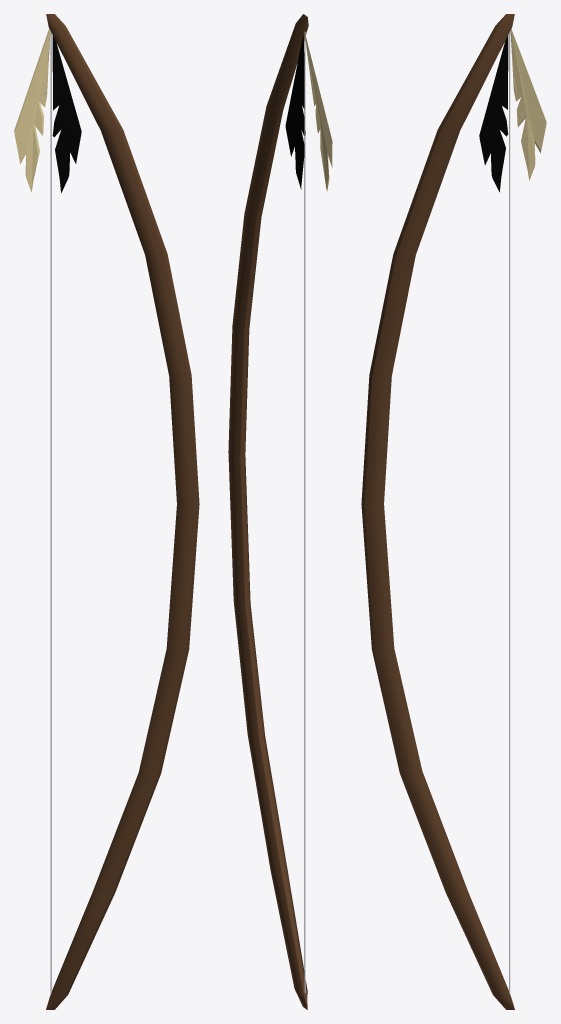
File: Bow_01.fbx
The picture shows the model from 3 angles, left to right: view 1: azimuth 90°, elevation 25°; view 2: azimuth 210°, elevation 25°; view 3: azimuth 270°, elevation 25°; orthographic projection.
Visible parts, largest first — view 1: Cylinder004; view 2: Cylinder004; view 3: Cylinder004.
Boxes of the visible parts, left/top/right/bottom form: Cylinder004: left=14, top=14, right=199, bottom=1009; Cylinder004: left=228, top=14, right=332, bottom=1009; Cylinder004: left=361, top=14, right=546, bottom=1009.
Bounding box in the file's own units: 1.85 × 94.71 × 15.96.
